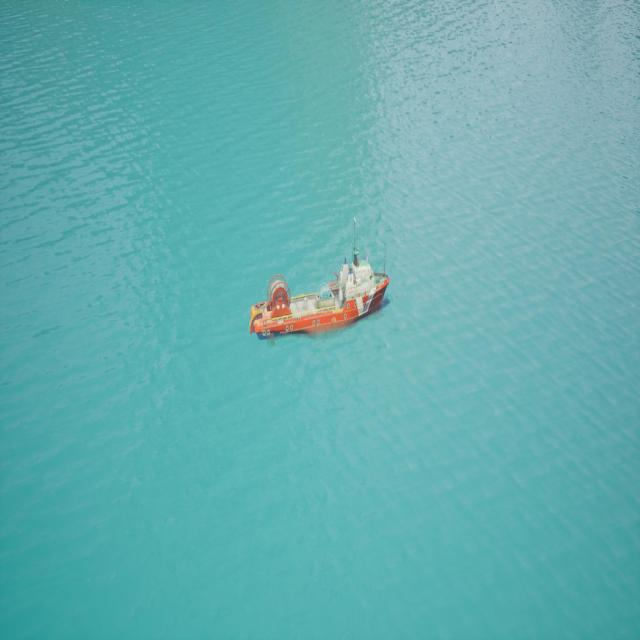tug boat: (249, 255, 390, 342)
